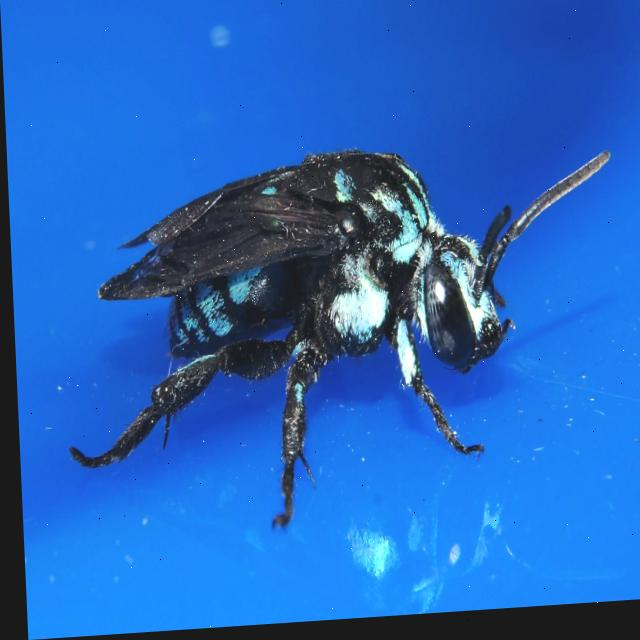Thyreus: (47, 128, 628, 528)
